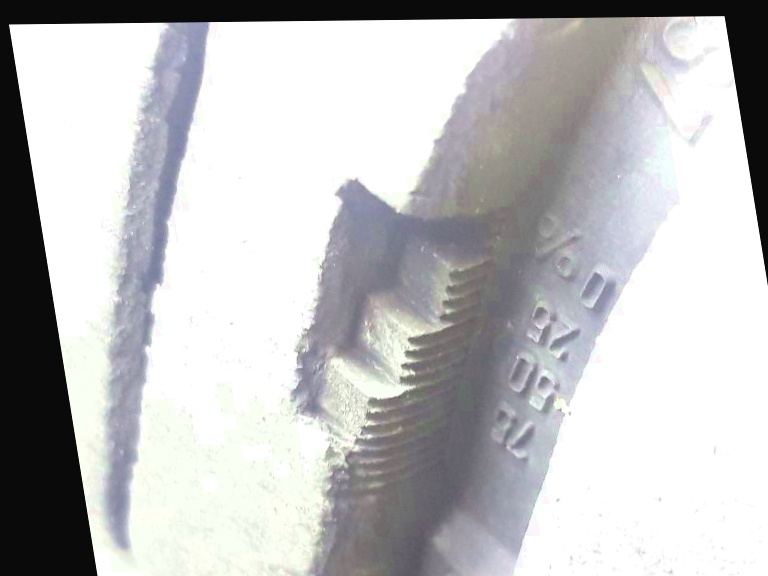temoin:80: (231, 162, 597, 519)
